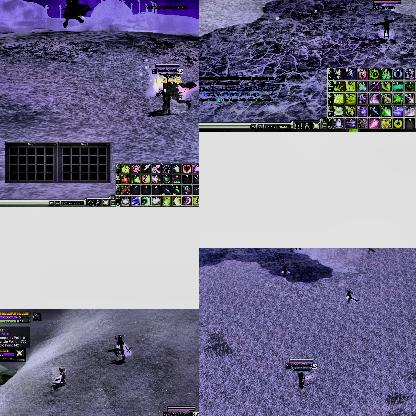caliana: (164, 83, 186, 113), (52, 367, 66, 389), (115, 346, 131, 362), (345, 288, 359, 302), (114, 334, 126, 348), (282, 262, 292, 276)
